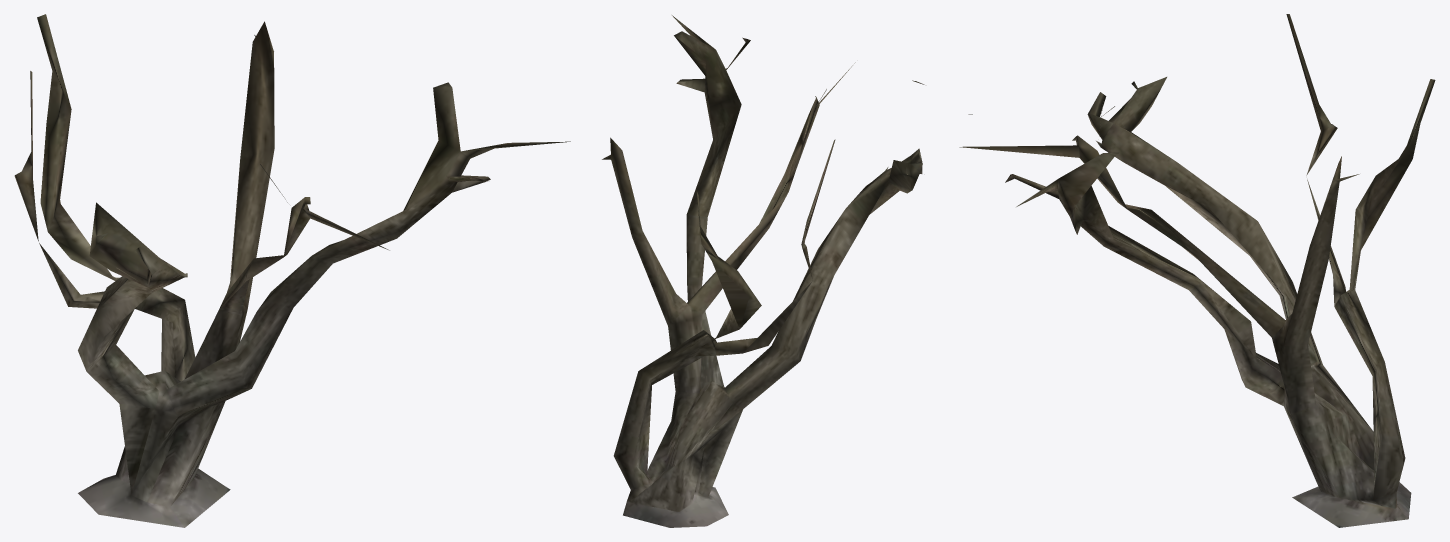
File: Dead_tree.glb
The picture shows the model from 3 angles, left to right: view 1: azimuth 30°, elevation 25°; view 2: azimuth 150°, elevation 25°; view 3: azimuth 270°, elevation 25°; orthographic projection. The views are drawn at different scales.
Visible parts, largest first — view 1: Obj3d66-19538030-1-190; view 2: Obj3d66-19538030-1-190; view 3: Obj3d66-19538030-1-190.
Boxes of the visible parts, x1,y1,x2,y2 form: Obj3d66-19538030-1-190: (14,14,570,527); Obj3d66-19538030-1-190: (602,15,924,527); Obj3d66-19538030-1-190: (959,14,1435,527).
Size of the model in its own units: 1.11 by 1.3 by 1.35.
1 material, 1 textured.
